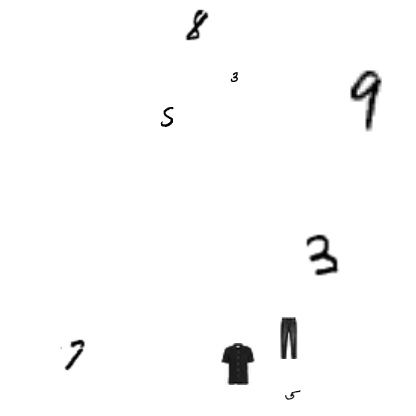3: (295, 227, 351, 283), (228, 70, 242, 84)
5: (153, 103, 181, 131), (281, 384, 303, 406)
7: (53, 331, 95, 373)
8: (175, 4, 217, 46)
9: (324, 50, 408, 134)
Shirt: (217, 343, 259, 385)
Trouser: (267, 317, 309, 359)
